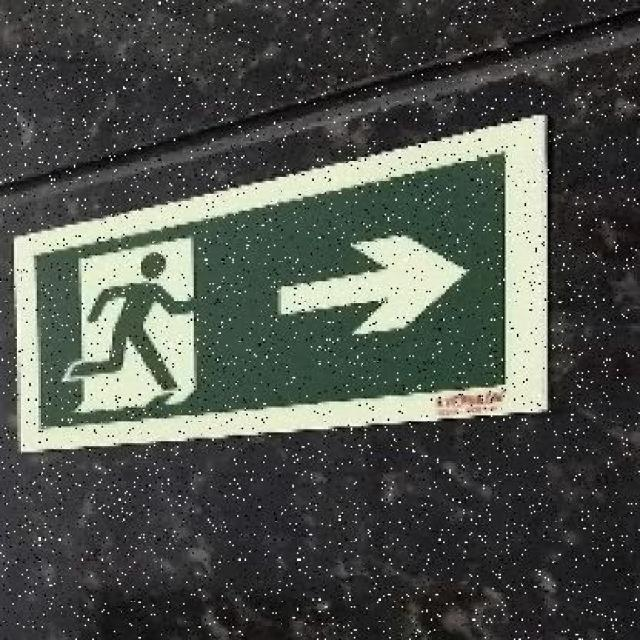emergency_exit: (12, 113, 550, 453)
